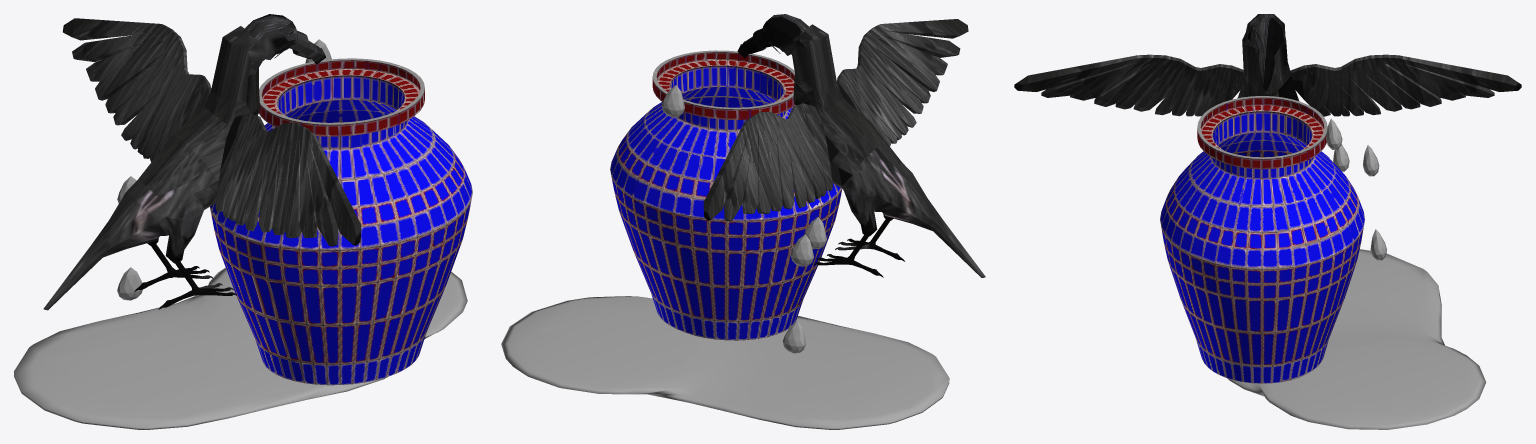
The model's file is bheegahuakaua5.obj.
The picture shows the model from 3 angles, left to right: view 1: azimuth 30°, elevation 25°; view 2: azimuth 150°, elevation 25°; view 3: azimuth 270°, elevation 25°; orthographic projection. The views are drawn at different scales.
Visible parts, largest first — view 1: Circle, Cylinder, Mball, Icosphere.002_Icosphere.003; view 2: Circle, Mball, Cylinder, Icosphere.003_Icosphere.004, Icosphere.001_Icosphere.002, Icosphere.002_Icosphere.003, Icosphere_Icosphere.001; view 3: Circle, Mball, Cylinder.
Part boxes in pixels (x1=…): Circle: x1=210, y1=58, x2=472, y2=385; Cylinder: x1=43, y1=14, x2=361, y2=310; Mball: x1=14, y1=267, x2=467, y2=429; Icosphere.002_Icosphere.003: x1=117, y1=267, x2=142, y2=300; Circle: x1=610, y1=50, x2=842, y2=340; Mball: x1=501, y1=296, x2=949, y2=429; Cylinder: x1=703, y1=14, x2=985, y2=277; Icosphere.003_Icosphere.004: x1=661, y1=85, x2=684, y2=117; Icosphere.001_Icosphere.002: x1=790, y1=234, x2=813, y2=266; Icosphere.002_Icosphere.003: x1=783, y1=321, x2=805, y2=353; Icosphere_Icosphere.001: x1=804, y1=217, x2=826, y2=249; Circle: x1=1160, y1=96, x2=1364, y2=383; Mball: x1=1227, y1=249, x2=1486, y2=429; Cylinder: x1=1014, y1=14, x2=1521, y2=116.
Size of the model in its own units: 1.18 by 0.8912 by 1.28.
Materials: 10 (3 with a texture image).
